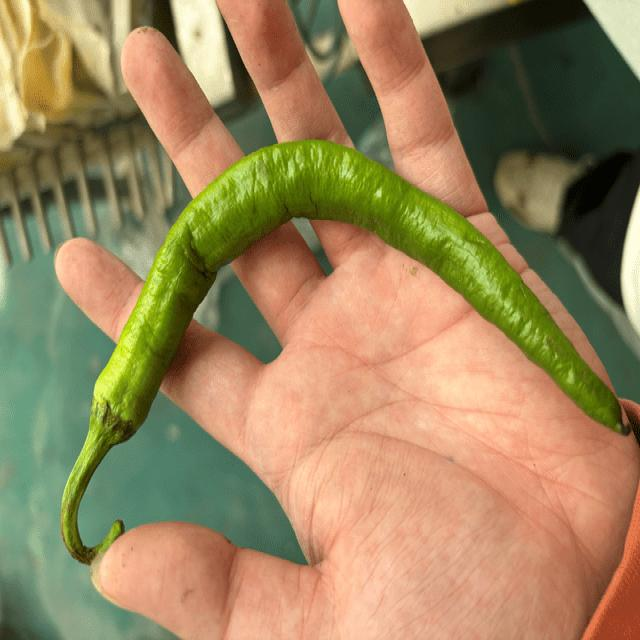chili: (89, 137, 633, 448)
